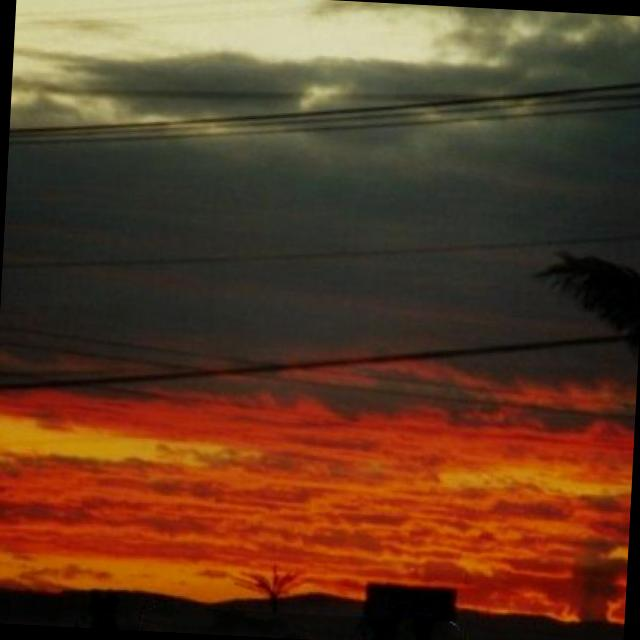nimbostratus: (0, 126, 640, 397)
